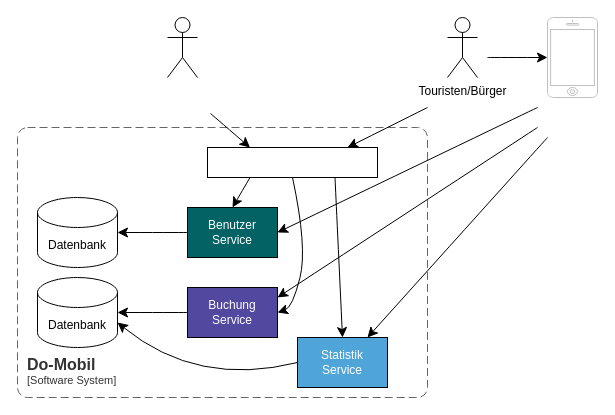
The diagram is 615 pixels wide and 415 high, and some of its shapes have lost their labels. The centre of each missing label's shape, as x and y in pixels:
Do-Mobil App: point 572,57
Mitarbeiter Stadt Dortmund: point 182,47
Web-UI: point 292,162
